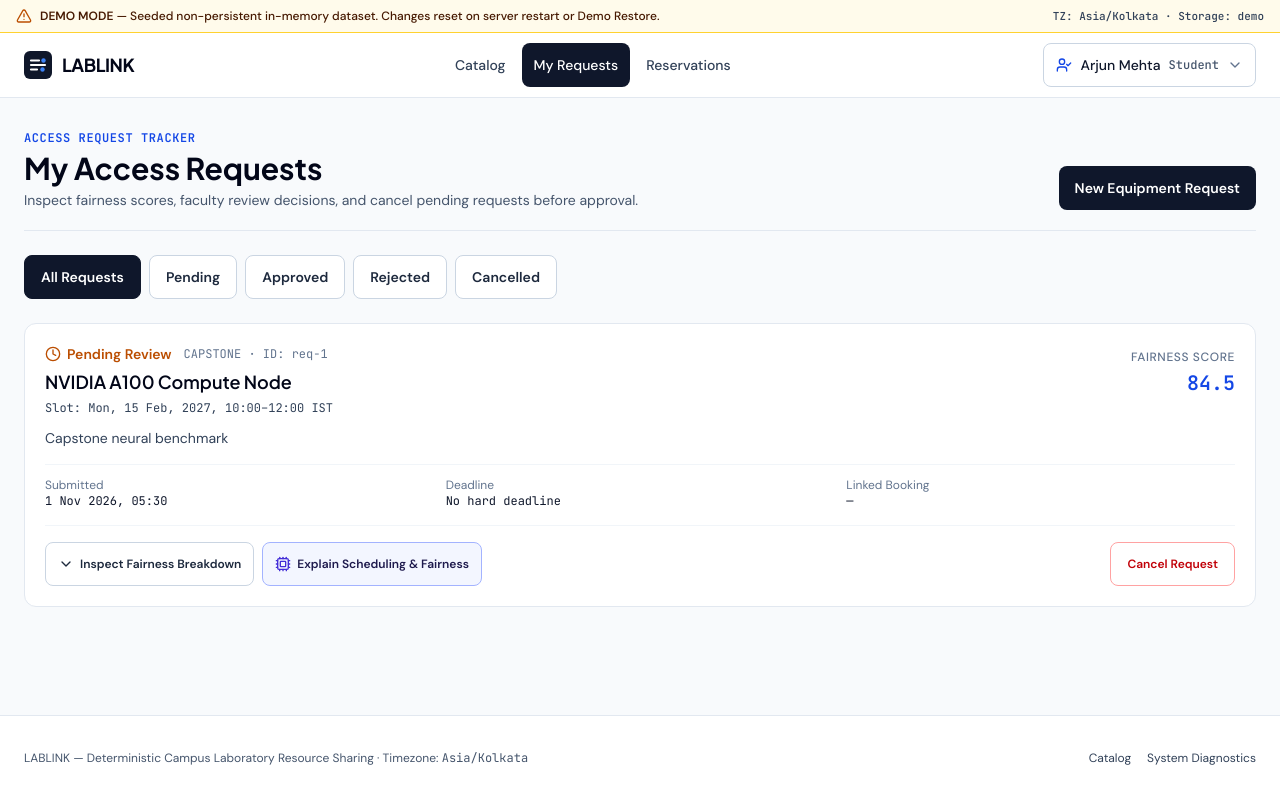
Test: Phase 3 Advisory AI UI Separation & Accessibility › displays official rank and AI explanation clearly separated on StudentRequestsPage
Click the button "Explain Scheduling & Fairness" at (372, 564), box [262,542,482,586]
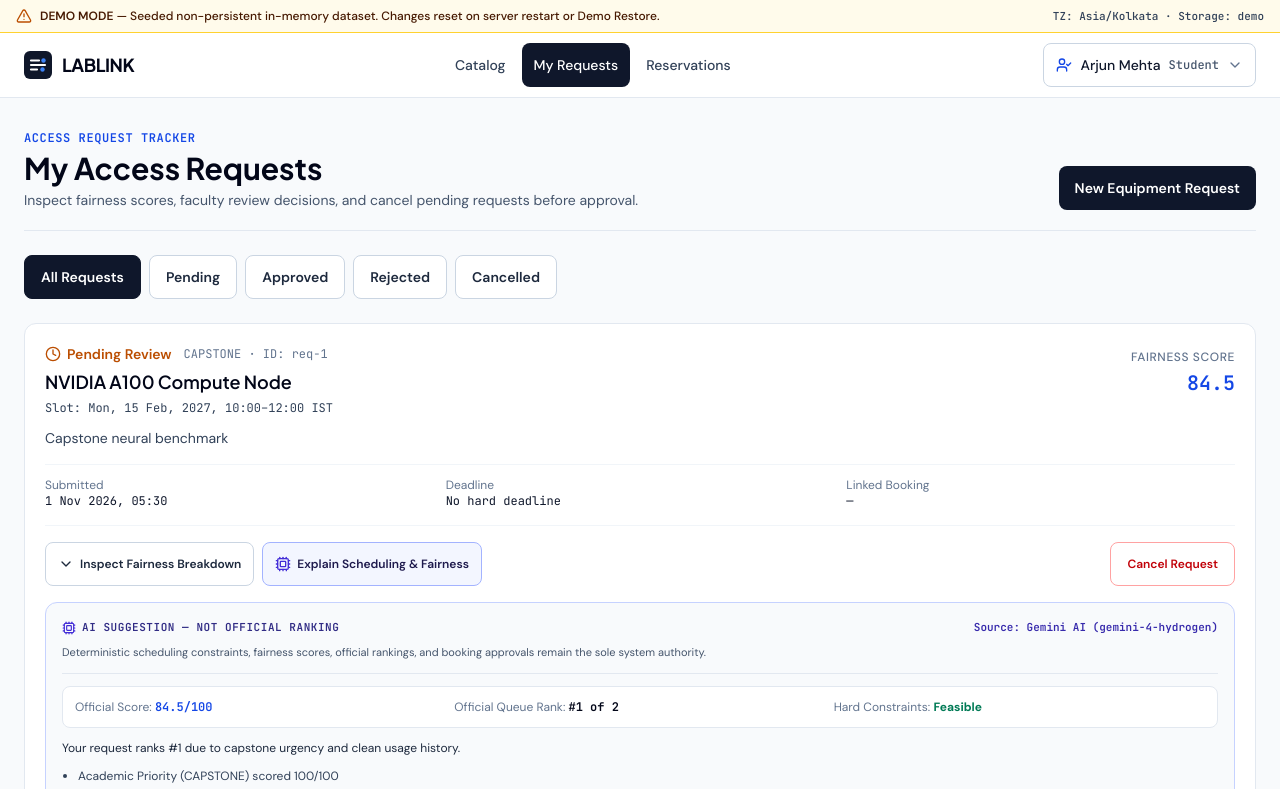
Now the text "AI SUGGESTION — NOT OFFICIAL RANKING" is shown, box [82,619,339,636]
Now the text "#1 of 2" is shown, box [568,699,619,715]
Now the text "Your request ranks #1 due to capstone urgency" is shown, box [62,740,460,756]
